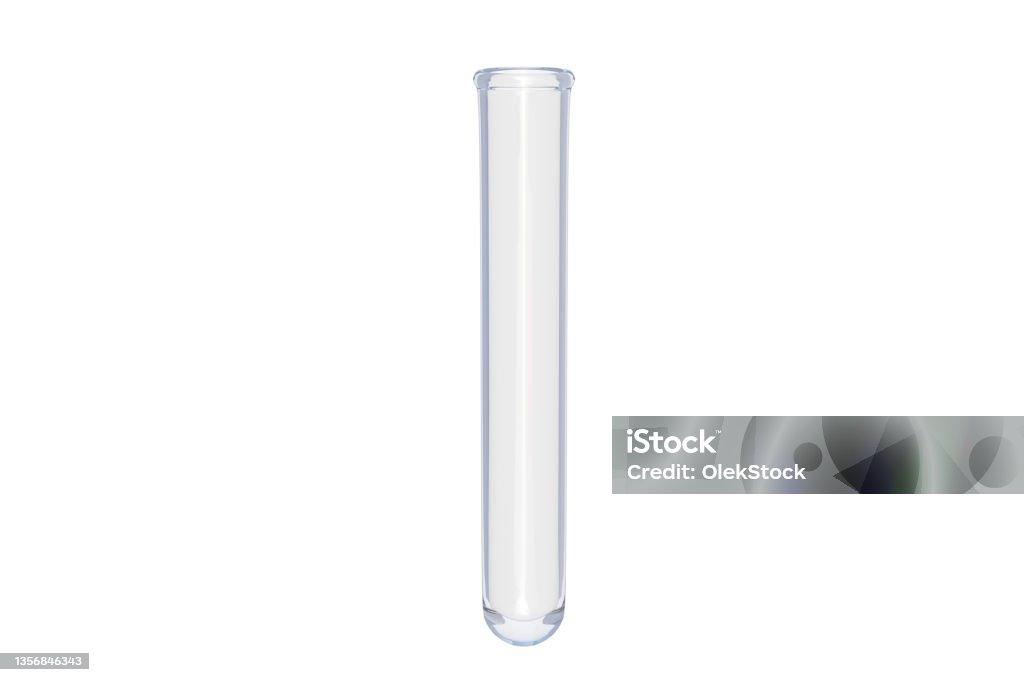Test tube: (461, 53, 577, 649)
